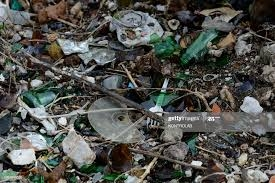glass: (107, 8, 168, 49), (178, 23, 220, 67), (23, 84, 63, 109)
metal: (87, 91, 145, 144)
paper: (61, 128, 98, 168), (239, 93, 266, 119)
plastic: (145, 75, 171, 129)
